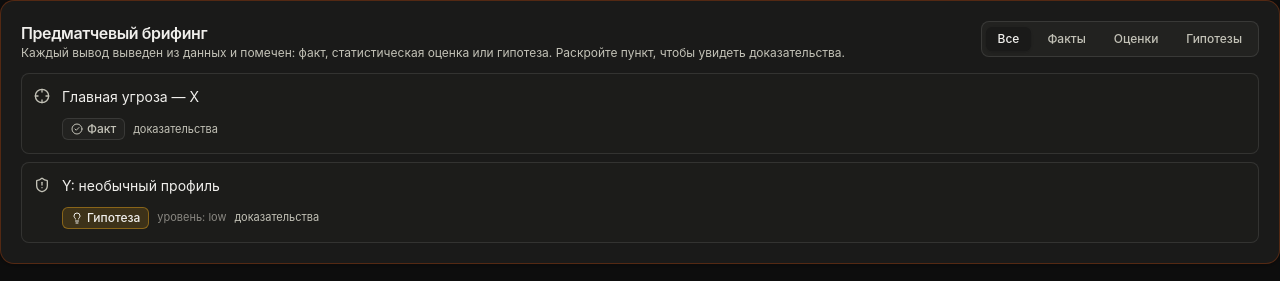
Briefing › labels every item by evidence type and filters by it
Expected: the text "Факт" is shown, [62,118,125,140]
Expected: the text "Гипотеза" is shown, [62,206,149,228]
Press the mouse on the tab "Гипотезы" at (1214, 39), box [1174,27,1254,51]
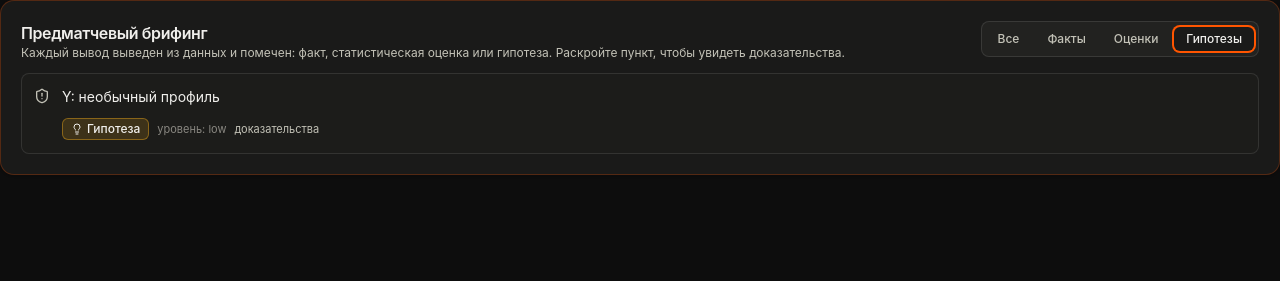
Expected: the text "Y: необычный профиль" is shown, [62,88,220,105]
Result: the text "Главная угроза — X" is gone
